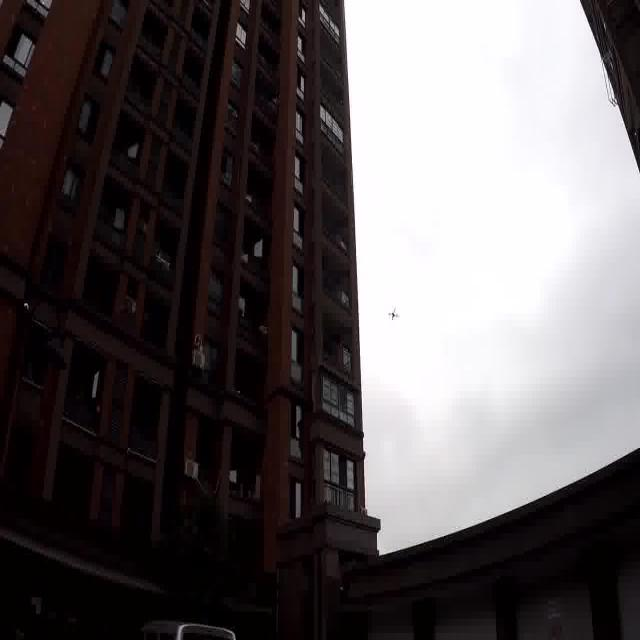drone: (388, 306, 400, 324)
